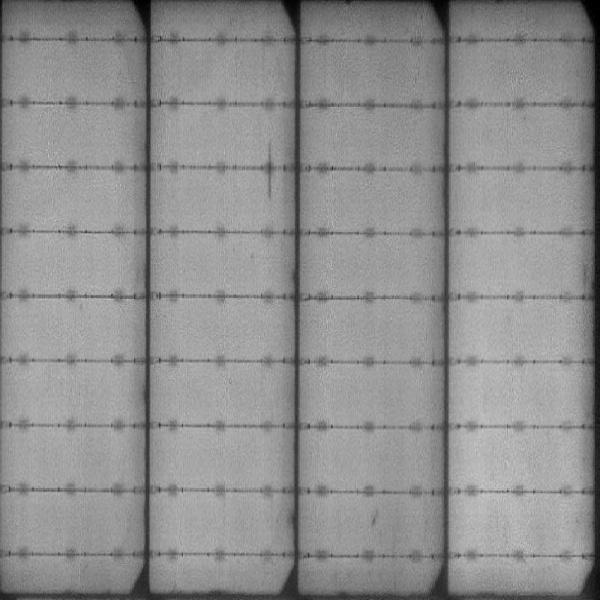scratch: (265, 140, 278, 196)
